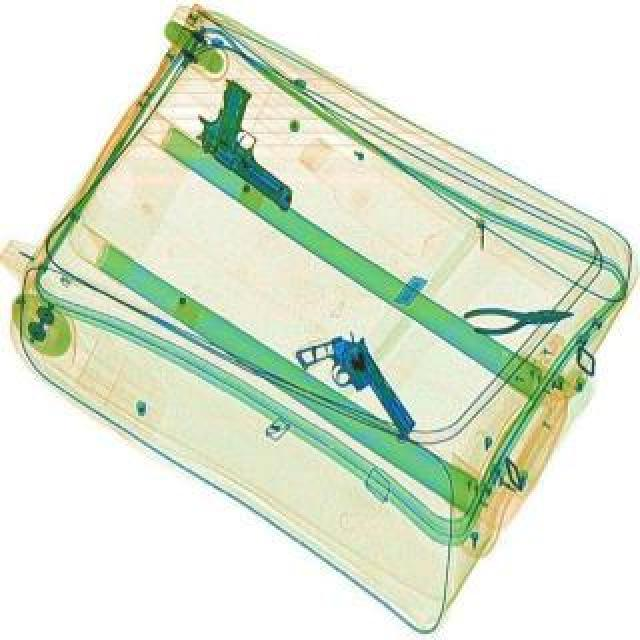gun: (180, 78, 340, 218), (292, 322, 424, 462)
wrench: (462, 306, 578, 338)
